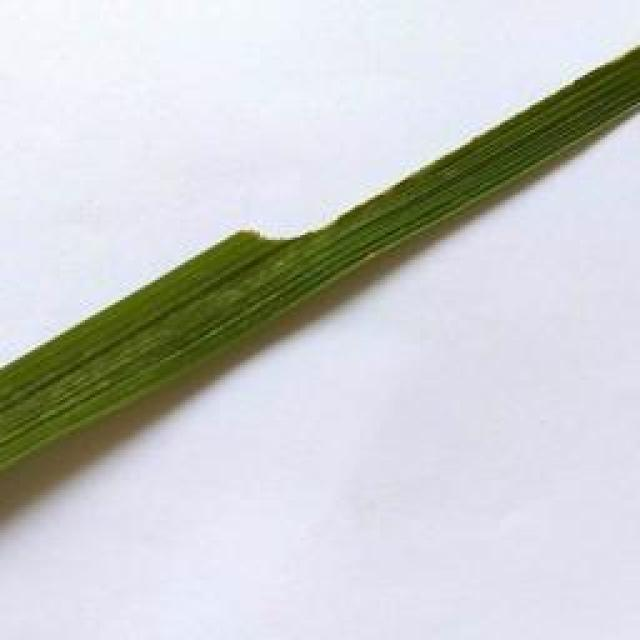Healthy-Plant: (0, 43, 640, 475)
